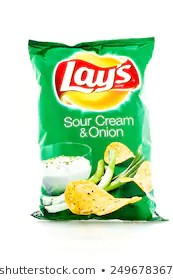lays-med: (32, 38, 159, 223)
